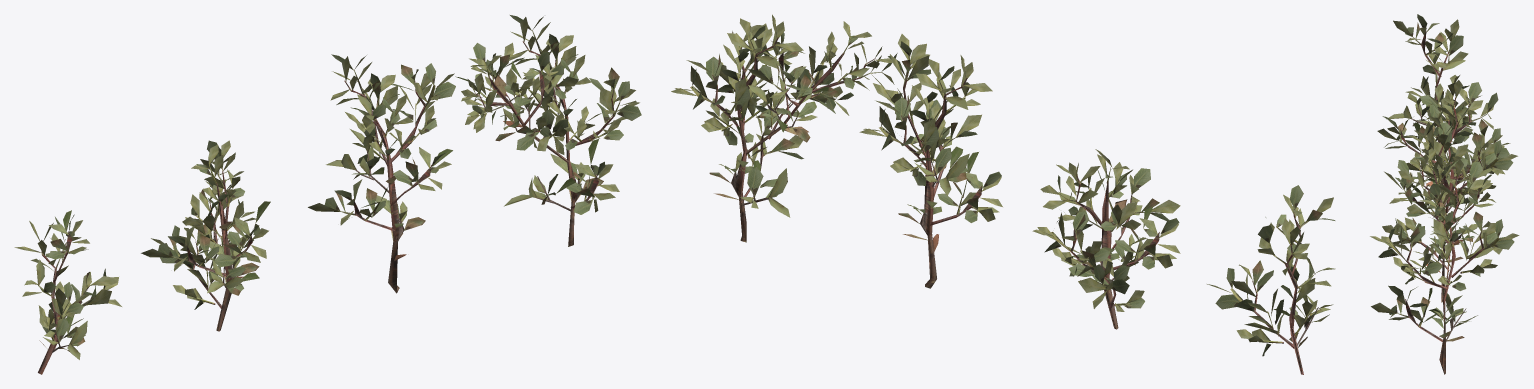
File: plant_shrub_tuft_01.glb
3 views of the same model, side by side, from view 1: azimuth 30°, elevation 25°; view 2: azimuth 150°, elevation 25°; view 3: azimuth 270°, elevation 25° (orthographic). The views are drawn at different scales.
Visible parts, largest first — view 1: plant_shrub_tuft_01; view 2: plant_shrub_tuft_01; view 3: plant_shrub_tuft_01.
Part boxes in pixels (x1,y1,x2,y2): plant_shrub_tuft_01: [14, 15, 641, 374]; plant_shrub_tuft_01: [671, 14, 1335, 374]; plant_shrub_tuft_01: [1370, 14, 1519, 374].
Bounding box in the file's own units: 0.5832 × 0.2212 × 0.1457.
Materials: 1 (1 with a texture image).
